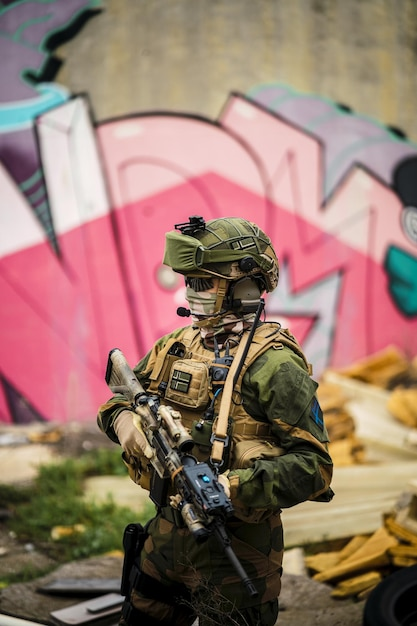gun: (101, 346, 264, 603)
